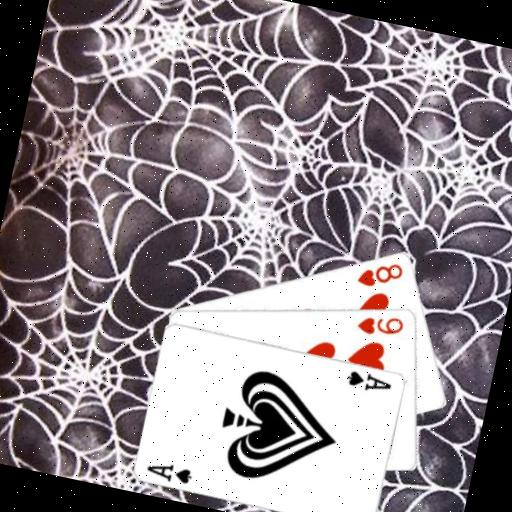8H: (353, 252, 406, 294)
9H: (352, 305, 407, 342)
AS: (142, 456, 196, 488), (342, 365, 395, 397)
